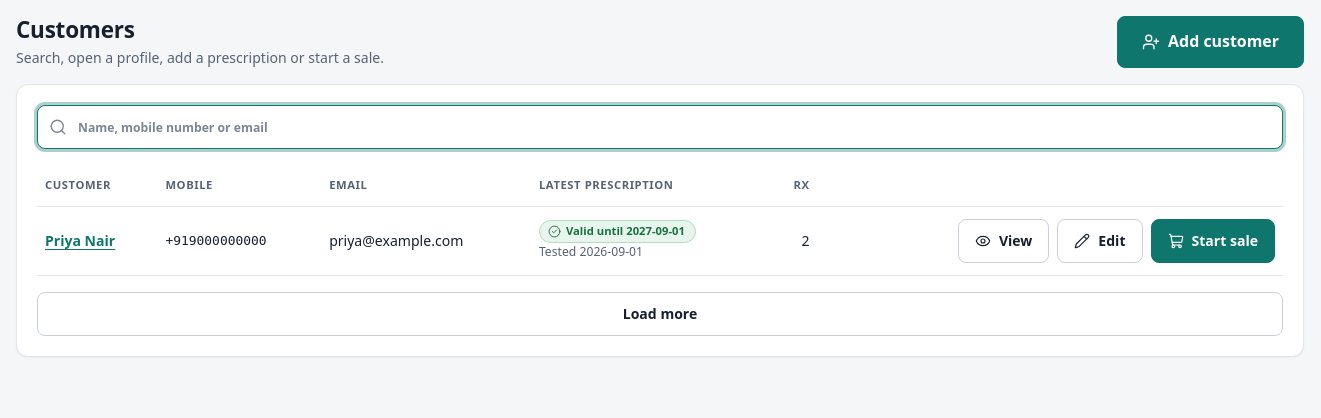
Test: CustomersPage › loads the next page on demand and appends it
Expected: the table is shown, [37, 165, 1283, 276]
Click the button "Load more": [660, 314] box [37, 292, 1283, 336]
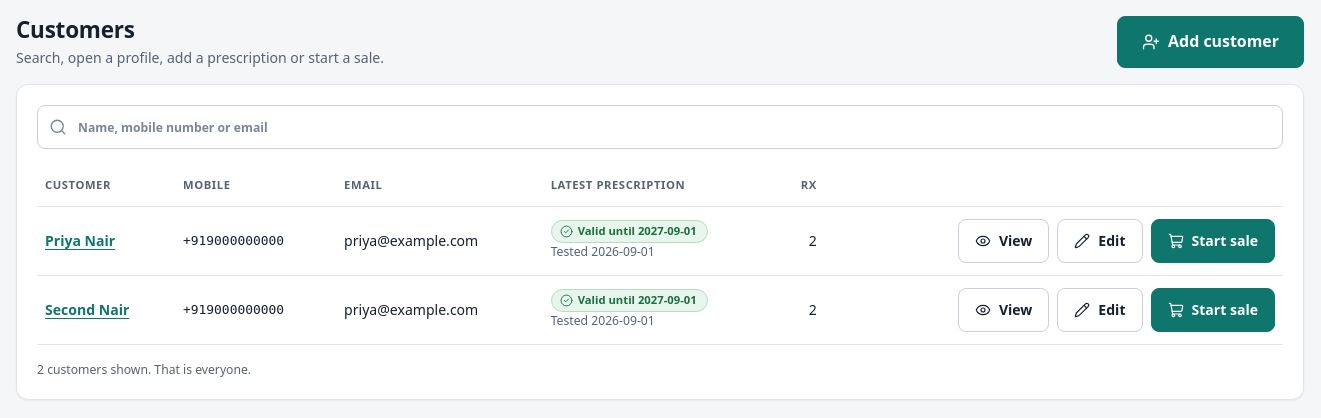
Expected: the text "Second Nair" is shown, [45, 300, 129, 319]
Expected: the number of rows is 3, [37, 165, 1283, 206]; [37, 206, 1283, 276]; [37, 276, 1283, 344]
Expected: the button "Load more" is gone
